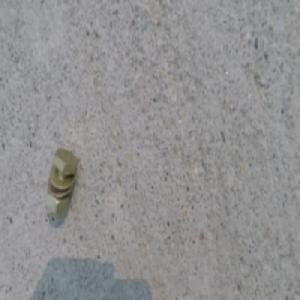BoltNutSet: (47, 144, 80, 216)
